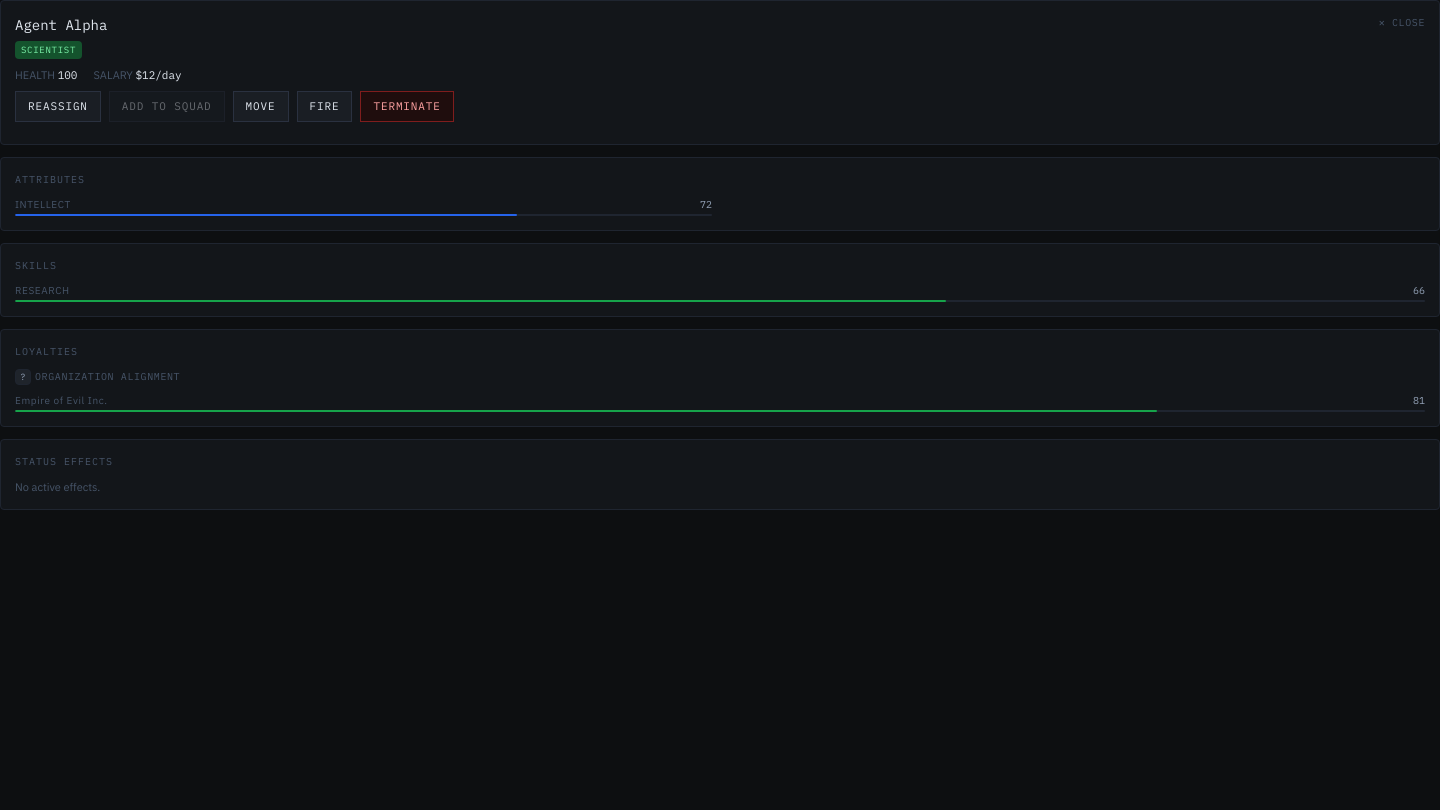
Test case: CharacterProfile › opens move agent modal as a UI scaffold
Click the button "MOVE" at [261, 106], box [233, 91, 288, 122]
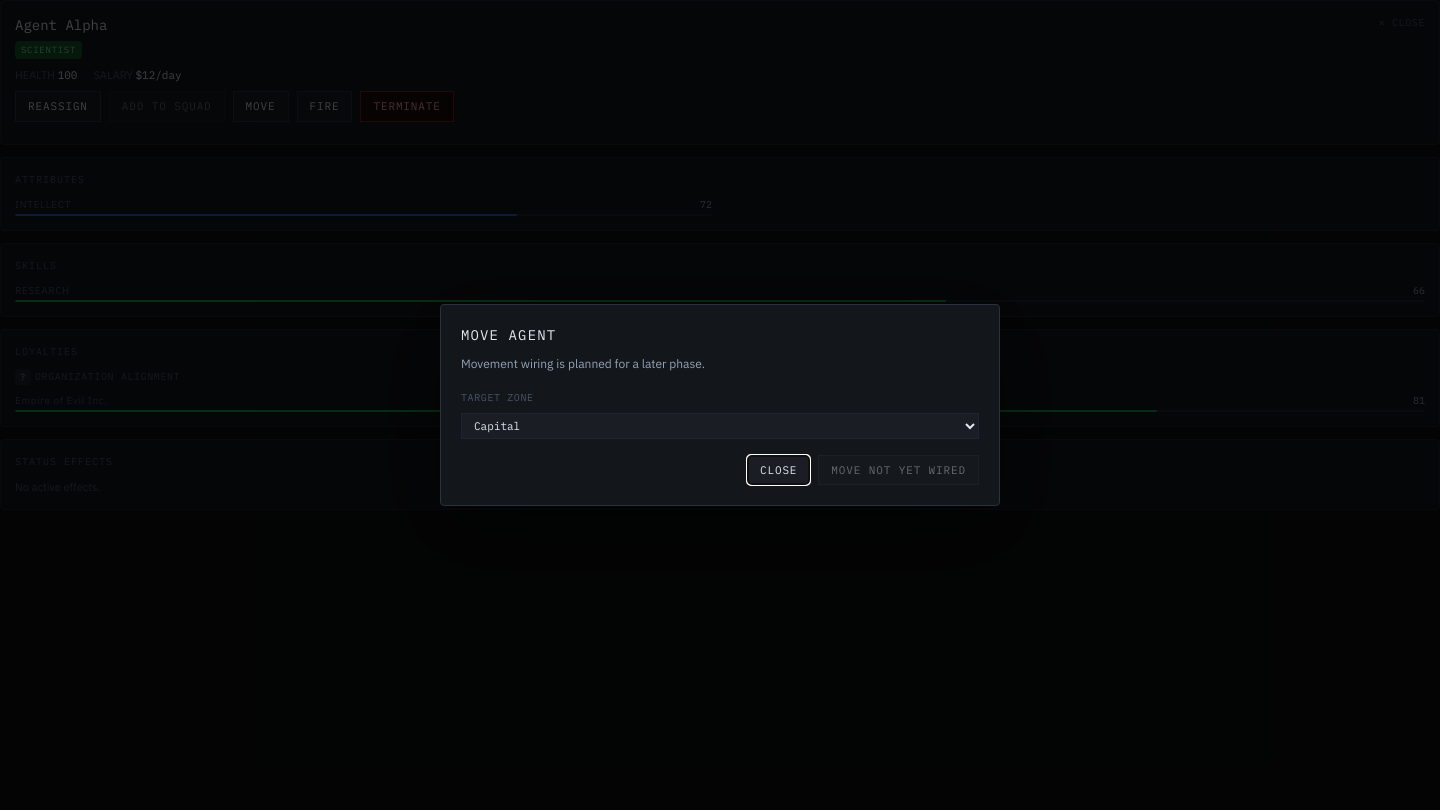
Check: the dialog "MOVE AGENT" is shown, box [440, 304, 1000, 506]
Check: the button "MOVE NOT YET WIRED" is disabled, box [818, 455, 979, 485]
